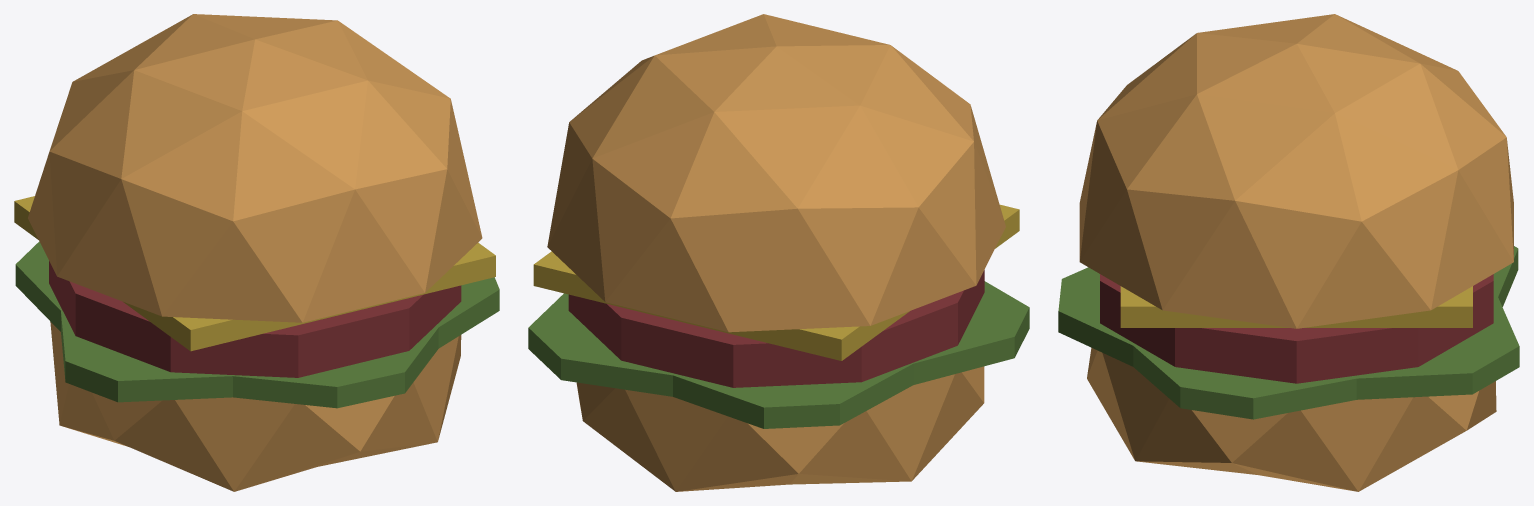
File: Burger.fbx
The picture shows the model from 3 angles, left to right: view 1: azimuth 30°, elevation 25°; view 2: azimuth 150°, elevation 25°; view 3: azimuth 270°, elevation 25°; orthographic projection.
Visible parts, largest first — view 1: Burger; view 2: Burger; view 3: Burger.
Boxes of the visible parts, x1,y1,x2,y2 form: Burger: (14, 14, 499, 491); Burger: (528, 14, 1029, 491); Burger: (1058, 14, 1519, 491).
Size of the model in its own units: 0.4148 by 0.3684 by 0.3928.
